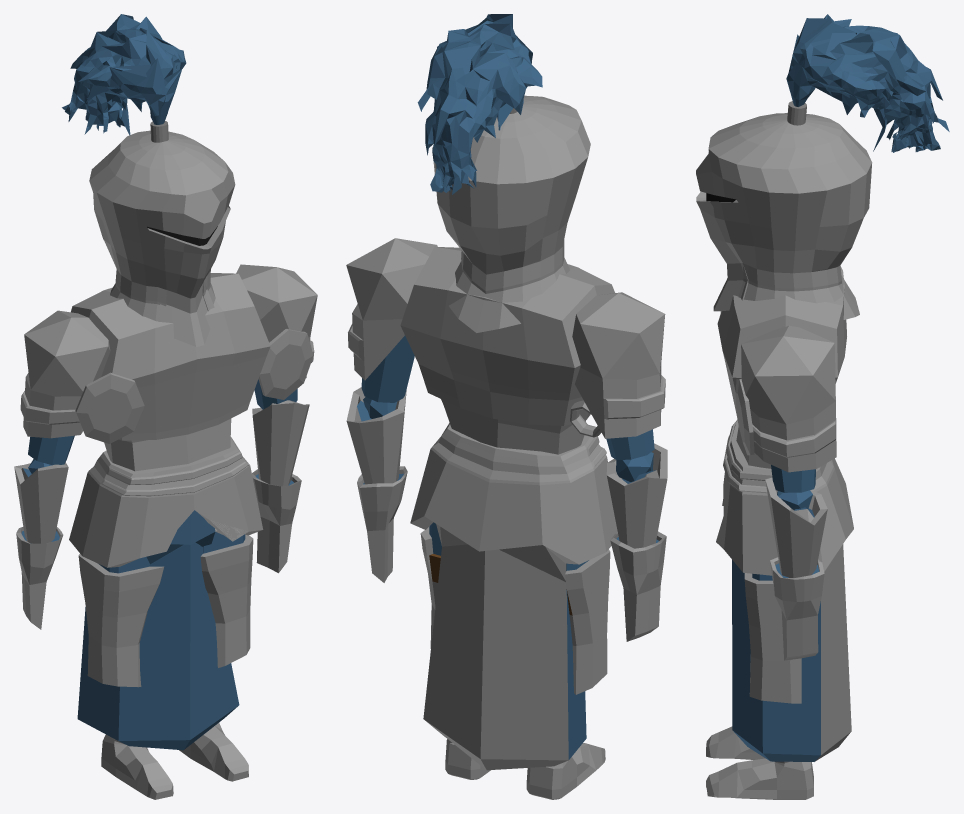
Rendered from Toernooiharnas.fbx.
3 renders of one model, left to right at view 1: azimuth 30°, elevation 25°; view 2: azimuth 150°, elevation 25°; view 3: azimuth 270°, elevation 25°, orthographic. The views are drawn at different scales.
Parts seen in each view (by area): view 1: Torso.001, Armen, Helm, Voeten, Cylinder.003, Cylinder.002, Cylinder; view 2: Torso.001, Armen, Helm, Cylinder.003, Voeten, Torus; view 3: Torso.001, Helm, Armen, Cylinder.003, Voeten, Cylinder.
Boxes of the visible parts, x1,y1,x2,y2 form: Torso.001: [69, 273, 270, 750]; Armen: [14, 264, 317, 629]; Helm: [89, 130, 235, 346]; Voeten: [78, 532, 253, 799]; Cylinder.003: [62, 14, 186, 142]; Cylinder.002: [75, 372, 144, 443]; Cylinder: [258, 329, 313, 399]; Torso.001: [400, 246, 617, 770]; Armen: [346, 238, 667, 641]; Helm: [432, 95, 590, 332]; Cylinder.003: [417, 14, 542, 194]; Voeten: [420, 522, 610, 799]; Torus: [570, 400, 601, 437]; Torso.001: [716, 266, 853, 761]; Helm: [696, 113, 872, 319]; Armen: [741, 325, 836, 660]; Cylinder.003: [786, 14, 949, 152]; Voeten: [706, 573, 813, 799]; Cylinder: [735, 379, 754, 455].
Size of the model in its own units: 229 by 541 by 164.
